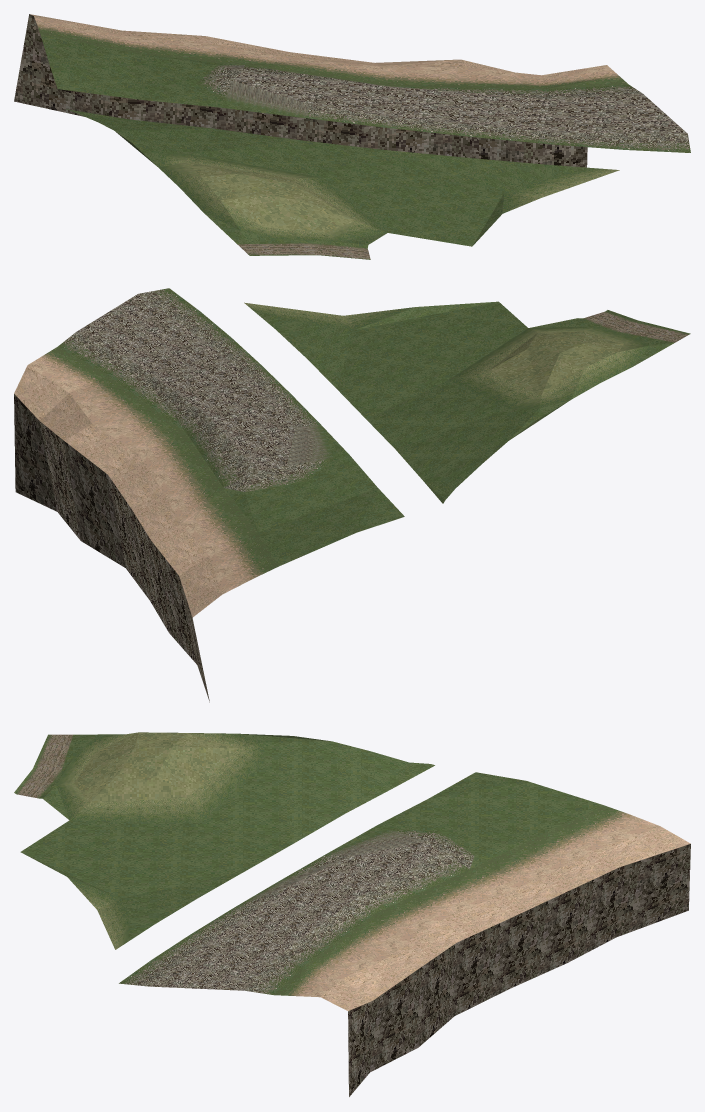
Rendered from lodcunteground01.obj.
The picture shows the model from 3 angles, top to bottom: view 1: azimuth 30°, elevation 25°; view 2: azimuth 150°, elevation 25°; view 3: azimuth 270°, elevation 25°; orthographic projection. The views are drawn at different scales.
Visible parts, largest first — view 1: LODcuntEground01; view 2: LODcuntEground01; view 3: LODcuntEground01.
Part boxes in pixels (x1,y1,x2,y2): LODcuntEground01: (14, 14, 690, 259); LODcuntEground01: (14, 288, 690, 702); LODcuntEground01: (14, 732, 690, 1096).
Bounding box in the file's own units: 225 × 73.83 × 289.
9 materials, 9 textured.
